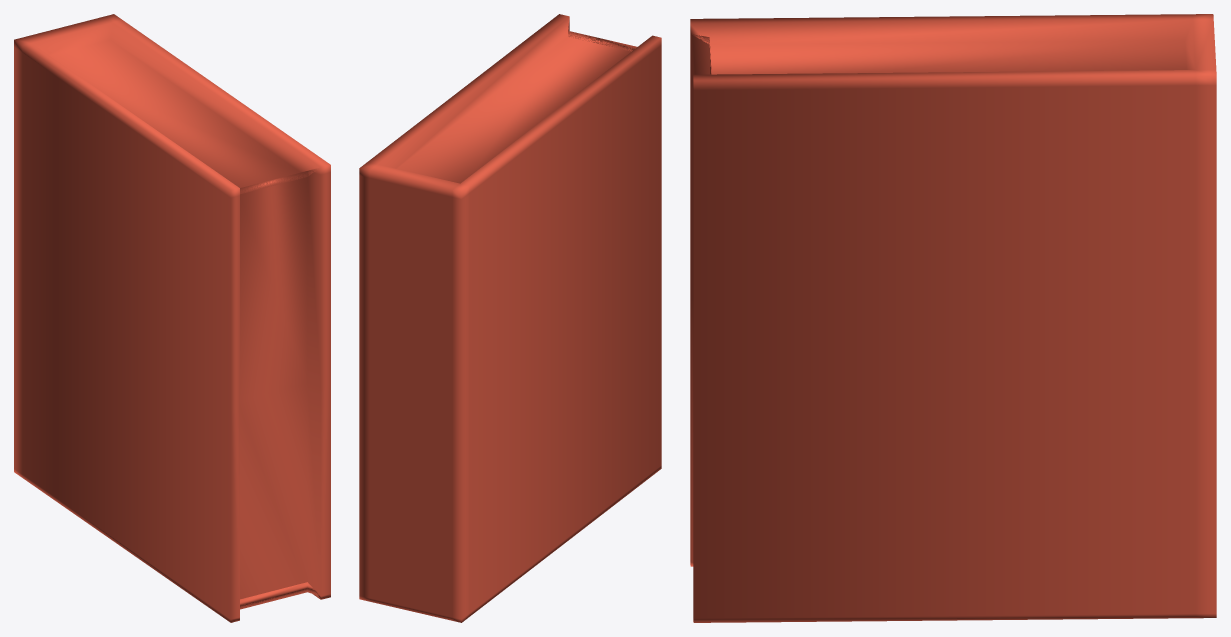
The model's file is Book_4.fbx.
3 views of the same model, side by side, from view 1: azimuth 30°, elevation 25°; view 2: azimuth 150°, elevation 25°; view 3: azimuth 270°, elevation 25° (orthographic). The views are drawn at different scales.
Parts seen in each view (by area): view 1: Book_4; view 2: Book_4; view 3: Book_4.
Boxes of the visible parts, x1=… form: Book_4: x1=14, y1=14, x2=330, y2=622; Book_4: x1=359, y1=14, x2=661, y2=622; Book_4: x1=690, y1=14, x2=1216, y2=622.
Size of the model in its own units: 10.72 by 40.5 by 35.65.
